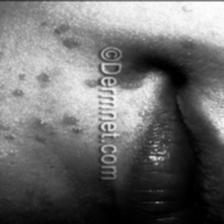Toxin: (0, 113, 83, 142), (37, 19, 82, 47), (13, 70, 55, 96)
